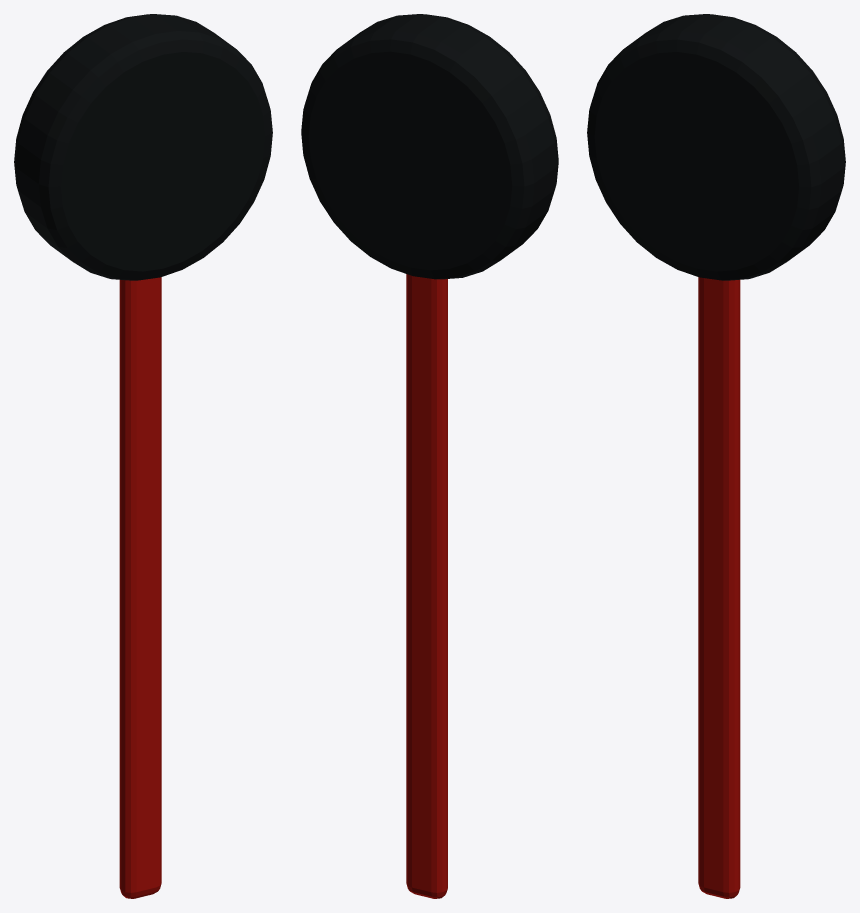
File: SM_WinchGaugeNeedle.obj
The picture shows the model from 3 angles, left to right: view 1: azimuth 30°, elevation 25°; view 2: azimuth 150°, elevation 25°; view 3: azimuth 330°, elevation 25°; orthographic projection.
Visible parts, largest first — view 1: SM_WinchGaugeNeedle; view 2: SM_WinchGaugeNeedle; view 3: SM_WinchGaugeNeedle.
Boxes of the visible parts, x1=… form: SM_WinchGaugeNeedle: x1=14, y1=14, x2=272, y2=898; SM_WinchGaugeNeedle: x1=301, y1=14, x2=558, y2=898; SM_WinchGaugeNeedle: x1=587, y1=14, x2=845, y2=898.
Size of the model in its own units: 2.4 by 8.6 by 0.7.
